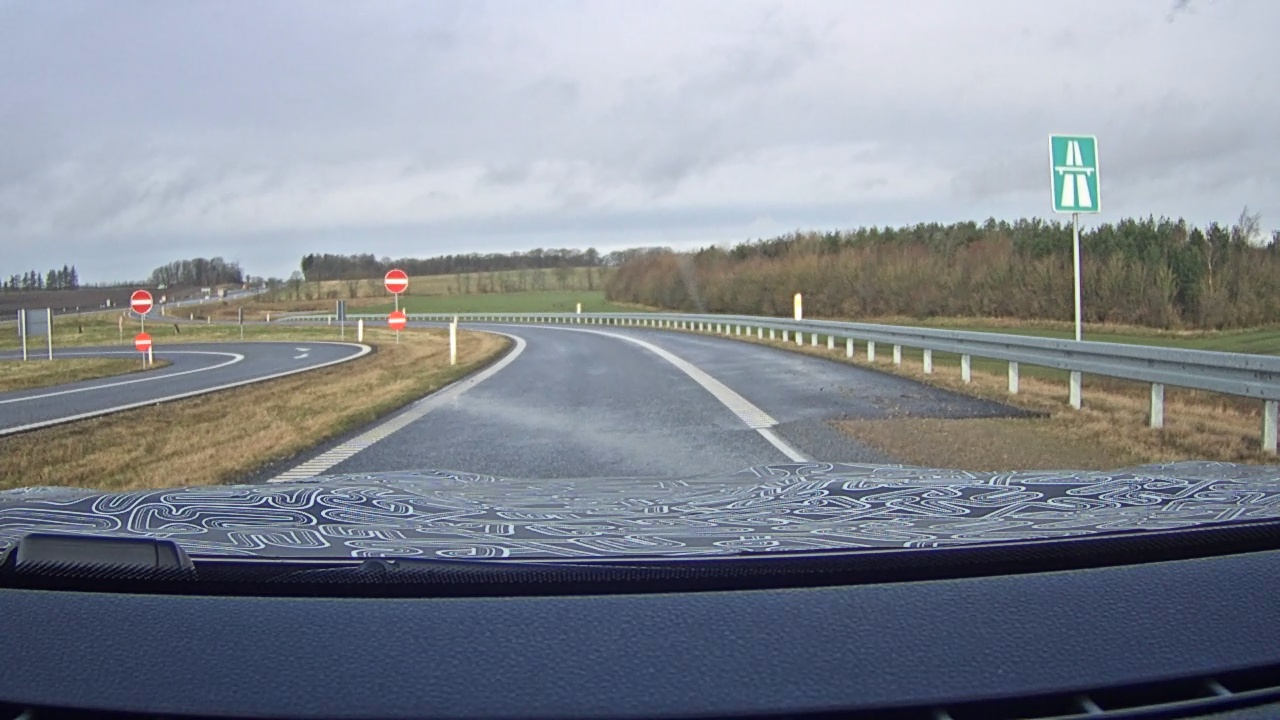Motorway_Begin: (1047, 133, 1101, 215)
